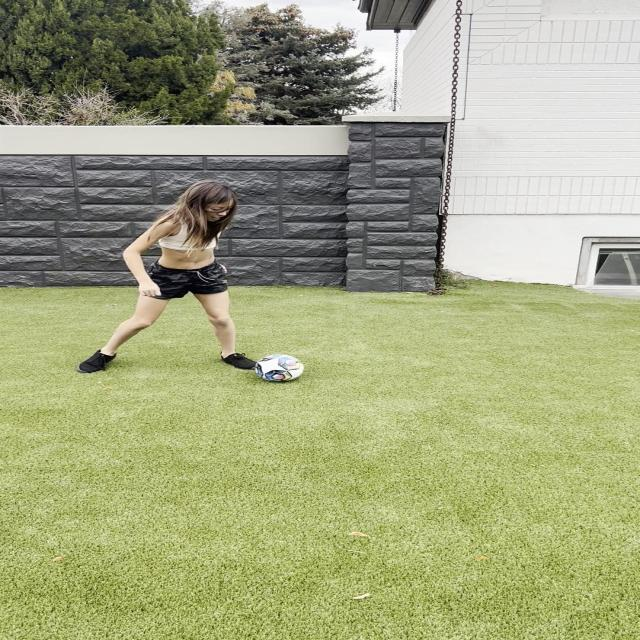Soccer Ball: (254, 354, 304, 383)
